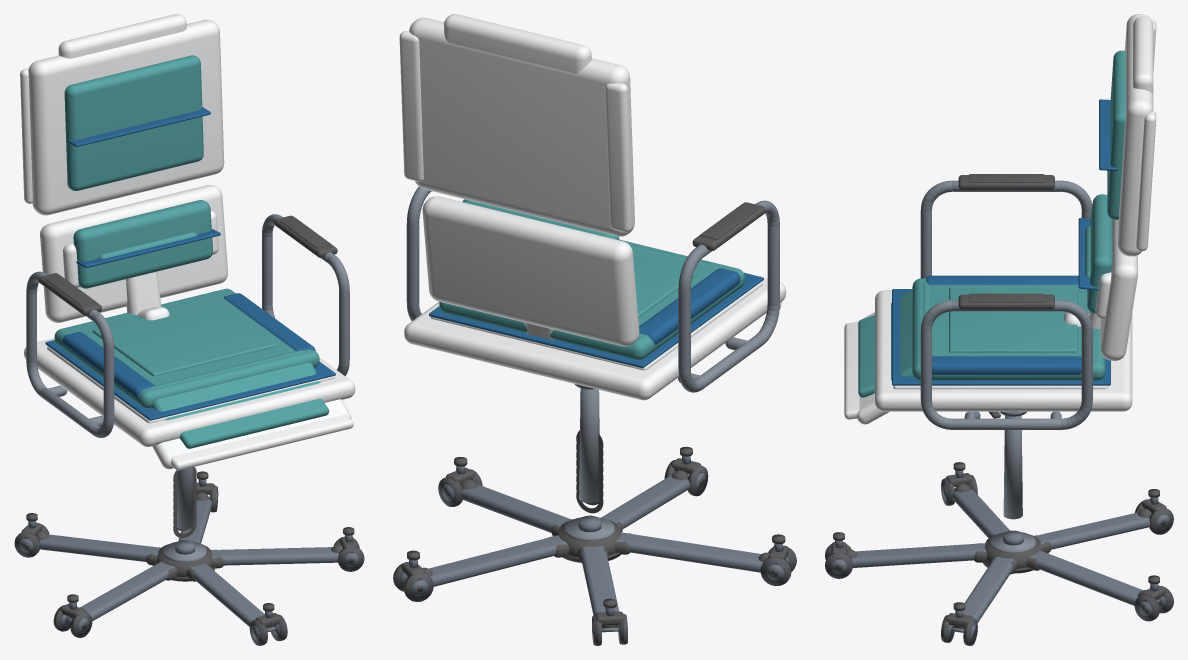
Rendered from office-chair.glb.
The picture shows the model from 3 angles, left to right: view 1: azimuth 30°, elevation 25°; view 2: azimuth 150°, elevation 25°; view 3: azimuth 270°, elevation 25°; orthographic projection. The views are drawn at different scales.
Visible parts, largest first — view 1: BackUpper, SeatPad, Seat, BackLower, BackPad, Arm_L, Arm_R, Spoke_02, Spoke_04, Spoke_05, Spoke_01, Stem (+6 smaller); view 2: BackUpper, BackLower, Seat, SeatPad, Arm_L, Stem, Spoke_05, Spoke_03, Spoke_02, Hub, Spoke_01, Arm_R (+7 smaller); view 3: SeatPad, Seat, BackUpper, Arm_R, BackLower, Arm_L, BackPad, Spoke_01, Spoke_03, Spoke_04, Stem, Spoke_02 (+7 smaller).
Part boxes in pixels (x1=…): BackUpper: x1=20, y1=14, x2=224, y2=215; SeatPad: x1=45, y1=288, x2=335, y2=448; Seat: x1=24, y1=338, x2=355, y2=470; BackLower: x1=40, y1=185, x2=227, y2=322; BackPad: x1=73, y1=200, x2=220, y2=288; Arm_L: x1=26, y1=271, x2=114, y2=437; Arm_R: x1=262, y1=214, x2=349, y2=375; Spoke_02: x1=211, y1=544, x2=342, y2=568; Spoke_04: x1=36, y1=531, x2=160, y2=565; Spoke_05: x1=72, y1=561, x2=177, y2=620; Spoke_01: x1=186, y1=563, x2=271, y2=628; Stem: x1=173, y1=467, x2=196, y2=538; BackUpper: x1=399, y1=14, x2=634, y2=236; BackLower: x1=422, y1=196, x2=639, y2=346; Seat: x1=404, y1=278, x2=786, y2=400; SeatPad: x1=429, y1=239, x2=763, y2=368; Arm_L: x1=678, y1=200, x2=779, y2=392; Stem: x1=576, y1=388, x2=603, y2=513; Spoke_05: x1=615, y1=532, x2=769, y2=572; Spoke_03: x1=422, y1=535, x2=569, y2=586; Spoke_02: x1=460, y1=479, x2=572, y2=536; Hub: x1=558, y1=515, x2=621, y2=562; Spoke_01: x1=601, y1=470, x2=689, y2=532; Arm_R: x1=406, y1=187, x2=431, y2=320; SeatPad: x1=858, y1=275, x2=1110, y2=397; Seat: x1=844, y1=290, x2=1132, y2=424; BackUpper: x1=1099, y1=14, x2=1156, y2=256; Arm_R: x1=920, y1=293, x2=1092, y2=429; BackLower: x1=1064, y1=219, x2=1137, y2=360; Arm_L: x1=920, y1=174, x2=1092, y2=278; BackPad: x1=1078, y1=194, x2=1112, y2=313; Spoke_01: x1=846, y1=543, x2=987, y2=567; Spoke_03: x1=1026, y1=550, x2=1146, y2=605; Spoke_04: x1=1034, y1=508, x2=1151, y2=552; Stem: x1=1003, y1=415, x2=1022, y2=519; Spoke_02: x1=954, y1=556, x2=1017, y2=628.
Bounding box in the file's own units: 0.6831 × 1.09 × 0.6506.
